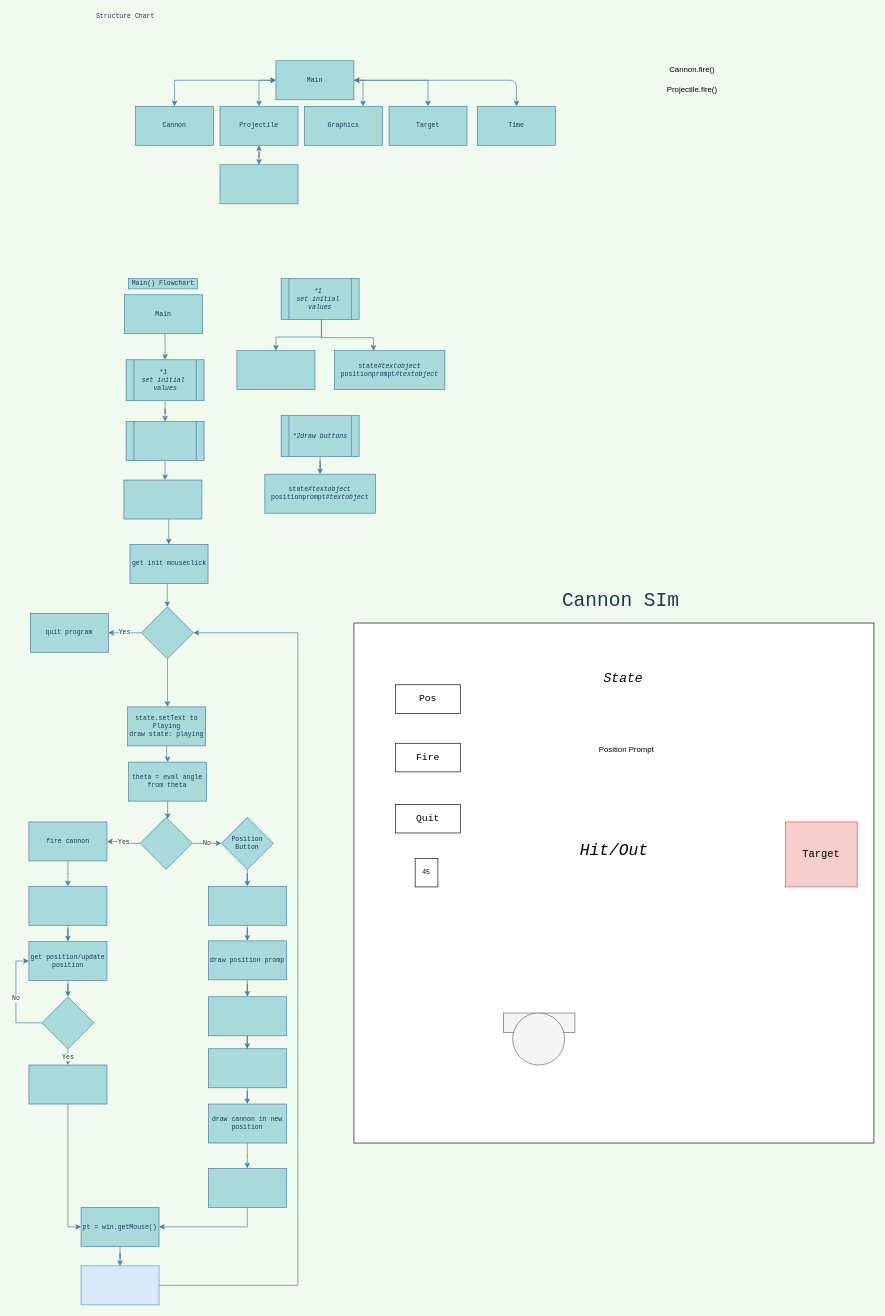
Image size: 885x1316. Some labels were removed from this diagram. Each missing label, with the centre of its shape:
*2 draw buttons: [164,441]
cannon, cannonball, projectile, tracker: [275,370]
draw ready: [162,499]
Fire Button: [165,843]
get x,y of pt set cannon position there: [247,1068]
pause program every 0.05 seconds: [67,905]
position hits target or outof bounds: [67,1022]
pt = get Mouse Click: [247,1016]
Quit button: [167,632]
state.setText ("positioning"): [247,905]
state.settext to Hit/strike click anywhere to continue: [67,1084]
state.setText(" "): [119,1285]
Tracker: [258,184]
undraw position prompt: [247,1187]
